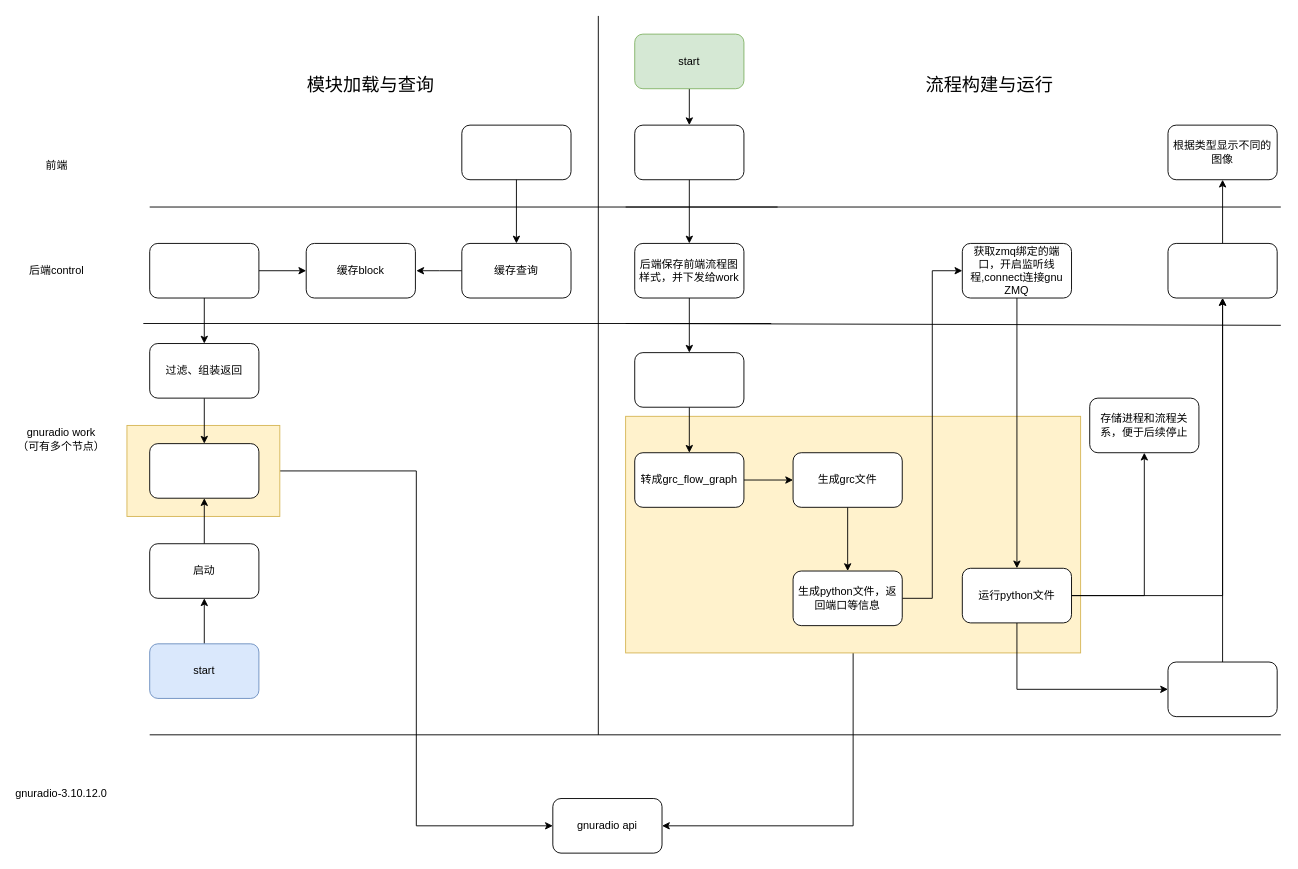
Some shapes in this 1298 by 869 pixel diagram are drawn without their labels. The box of each missing label's shape, as (x1, y1, x2, y2) in pixels:
初始化模块库: (149, 443, 259, 498)
后端初始化，查询work，加载block: (149, 243, 259, 298)
接收到数据、 解析信号 后推送前端: (1167, 243, 1277, 298)
日志数据，包括异常: (1167, 661, 1277, 717)
模块查询: (461, 124, 571, 180)
流程图转成grc_data，增加ZMQ模块，bind端口: (634, 352, 744, 407)
生成流程图并运行: (634, 124, 744, 180)
